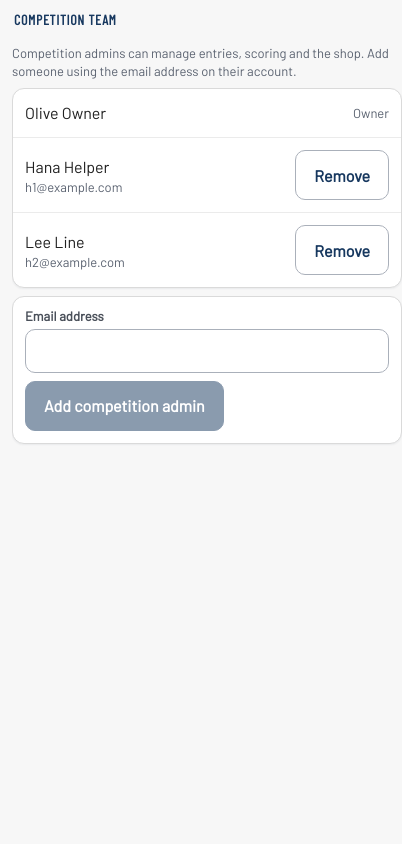
Test case: CompetitionTeamCard › adds a competition admin by email, then shows them
Check: the text "Hana Helper" is shown, box [25,155,122,179]
Check: the button "Add competition admin" is disabled, box [25,381,224,431]
Type " cam@example.com " into the field labelled "Email address".
click(207, 351); type(" cam@example.com ")  # box [25,329,389,373]
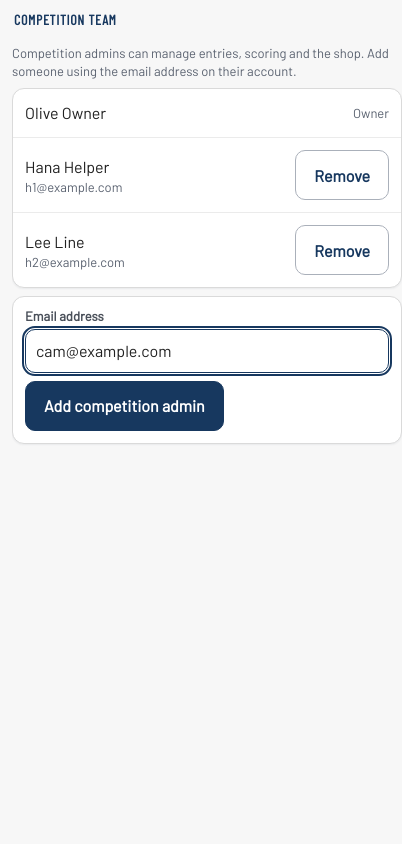
Click the button "Add competition admin".
click(124, 406)  # box [25,381,224,431]
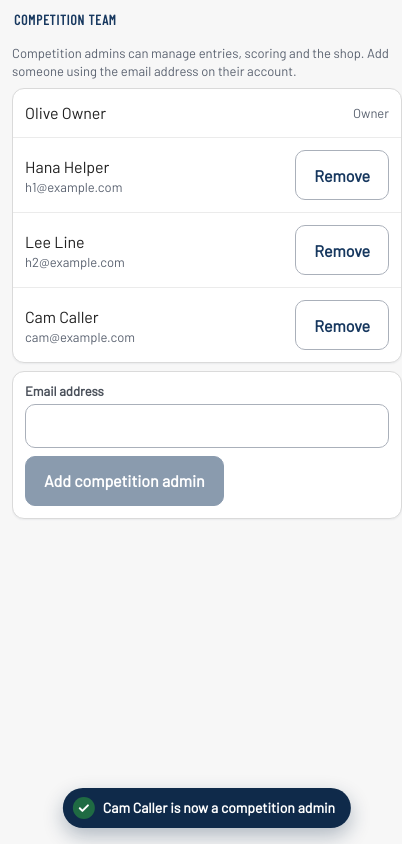
Check: the text "Cam Caller" is shown, box [25,307,99,326]
Check: the message reads "Cam Caller is now a competition admin", box [103,799,335,816]
Check: the field labelled "Email address" is empty, box [25,404,389,448]
